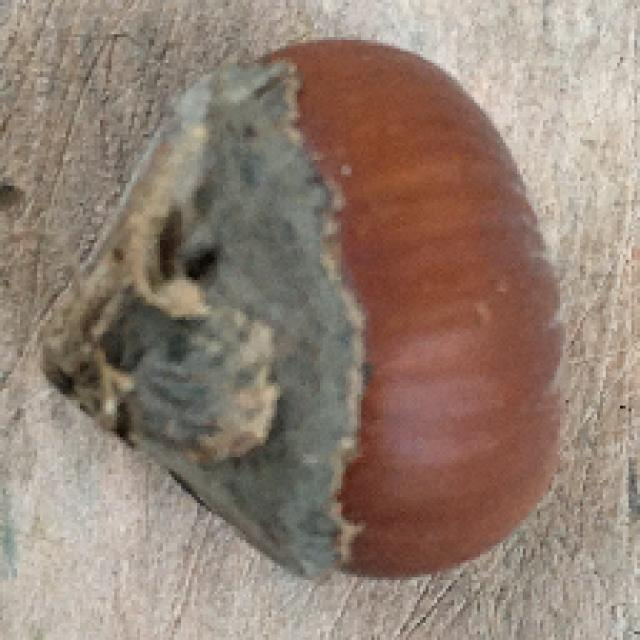damagedHazelnut: (52, 40, 580, 589)
